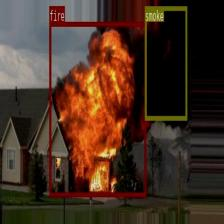fire: (49, 21, 146, 196)
smoke: (144, 6, 187, 119)
